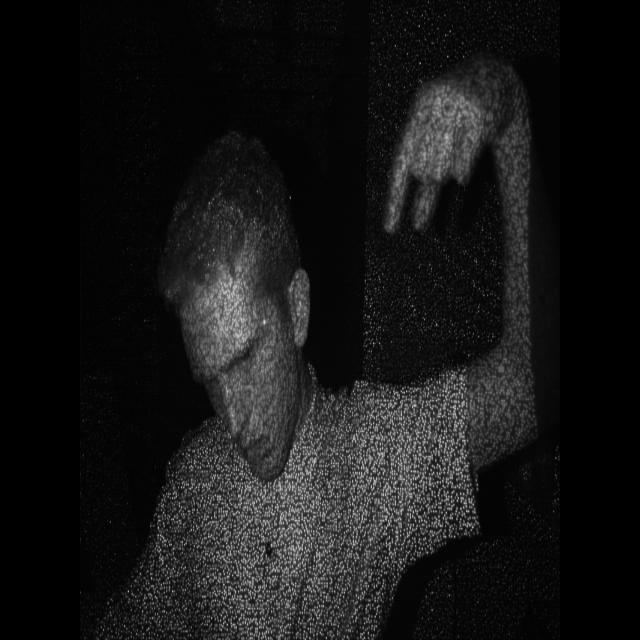Q: (373, 51, 527, 246)
